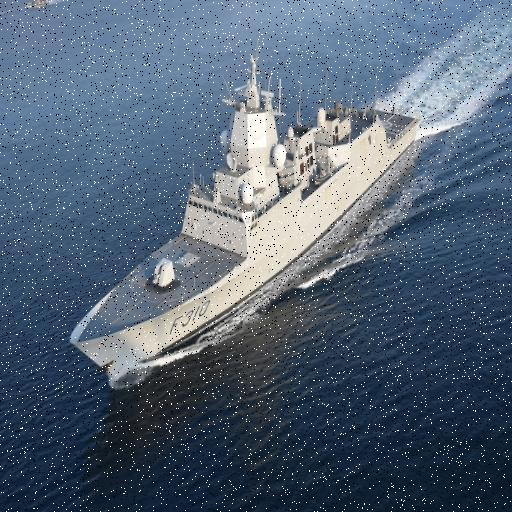Fragata: (69, 44, 425, 388)
